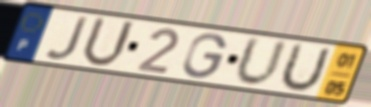2: (134, 27, 181, 76)
G: (182, 32, 230, 80)
J: (43, 15, 92, 63)
U: (78, 14, 138, 70), (232, 34, 291, 89), (275, 41, 334, 94)
